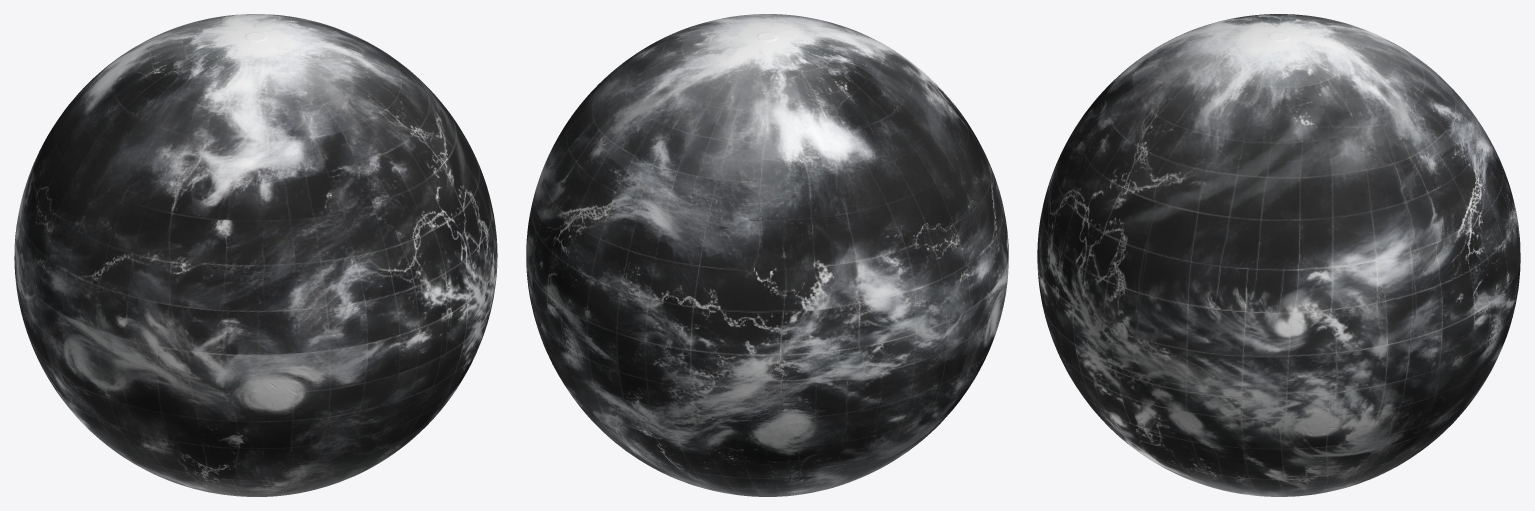
The model's file is earth.glb.
The picture shows the model from 3 angles, left to right: view 1: azimuth 30°, elevation 25°; view 2: azimuth 150°, elevation 25°; view 3: azimuth 270°, elevation 25°; orthographic projection.
Parts seen in each view (by area): view 1: node_0; view 2: node_0; view 3: node_0.
Part boxes in pixels (<box>): node_0: <box>14,14,497,496</box>; node_0: <box>526,14,1008,496</box>; node_0: <box>1037,14,1520,496</box>.
Bounding box in the file's own units: 1.2 × 1.2 × 1.2.
1 material, 1 textured.
